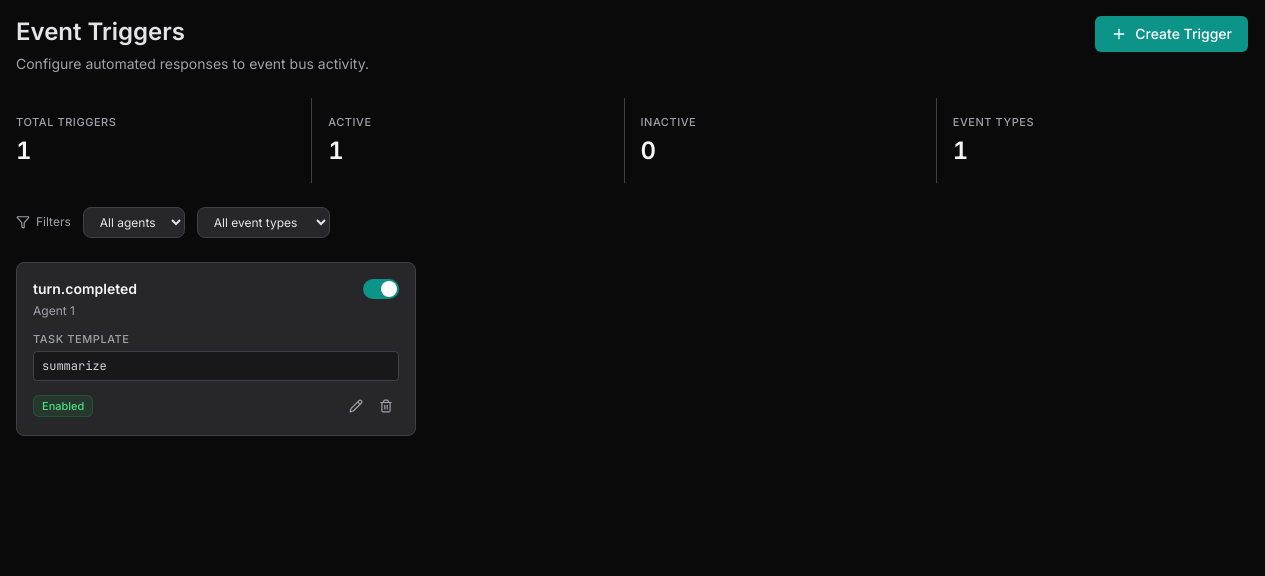
TriggersPage › rolls back optimistic toggle and shows row-level error when update fails
Click the 2nd button at (381, 288), box [363,278,399,298]
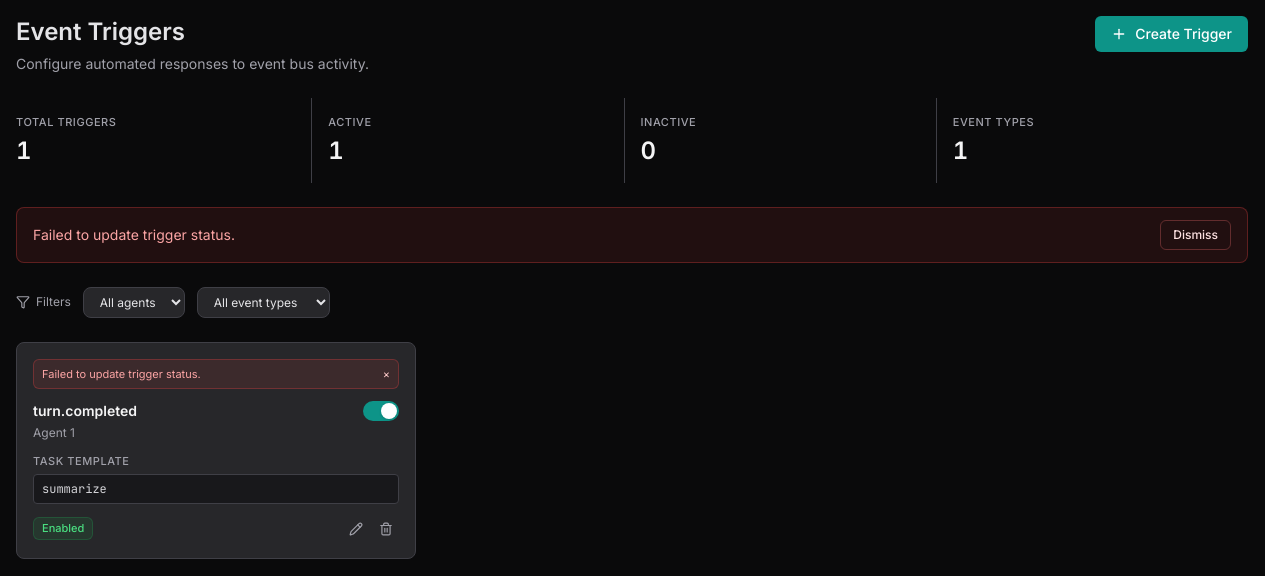
Expected: the text "Enabled" is shown, [33,517,93,540]
Expected: the message "Failed to update trigger status. ×" is shown, [33,358,399,389]
Expected: the message with test id "trigger-row-error" shows "Failed to update trigger status.", [42,366,201,380]
